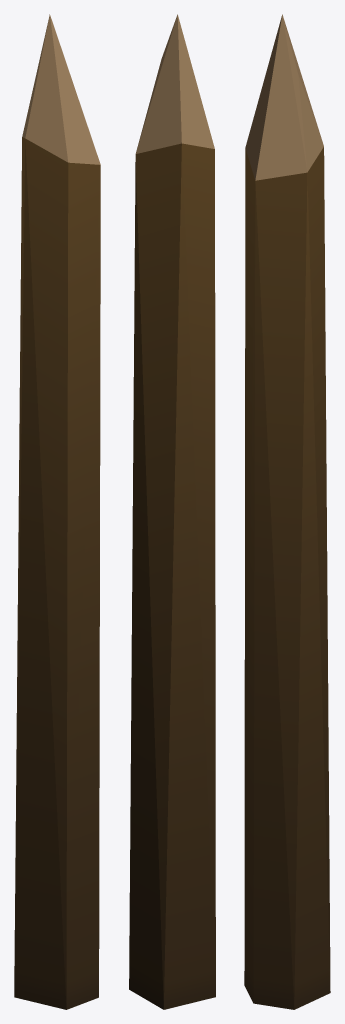
File: FenceBig_02.fbx
3 views of the same model, side by side, from view 1: azimuth 90°, elevation 25°; view 2: azimuth 150°, elevation 25°; view 3: azimuth 330°, elevation 25° (orthographic).
Visible parts, largest first — view 1: FenceBig_02; view 2: FenceBig_02; view 3: FenceBig_02.
Part boxes in pixels (x1,y1,x2,y2): FenceBig_02: (14, 14, 100, 1009); FenceBig_02: (129, 14, 215, 1009); FenceBig_02: (244, 14, 330, 1009).
Size of the model in its own units: 0.3736 by 4.81 by 0.3847.
